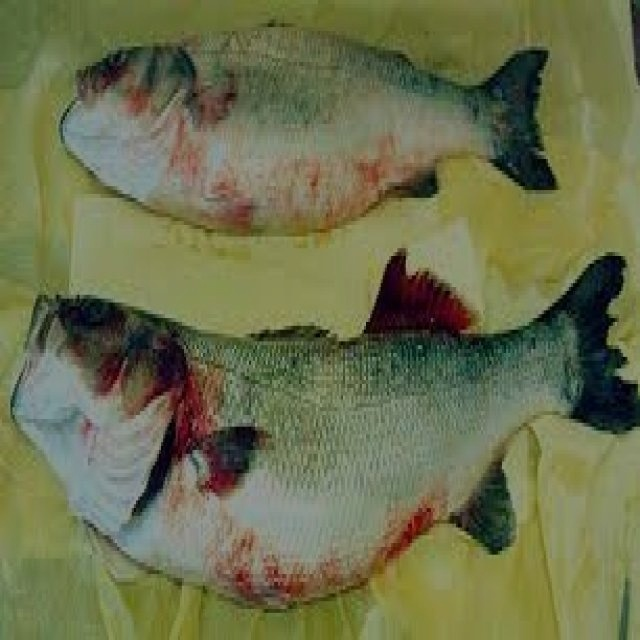EUS Disease: (10, 25, 640, 610), (4, 268, 452, 620), (56, 52, 470, 237)
